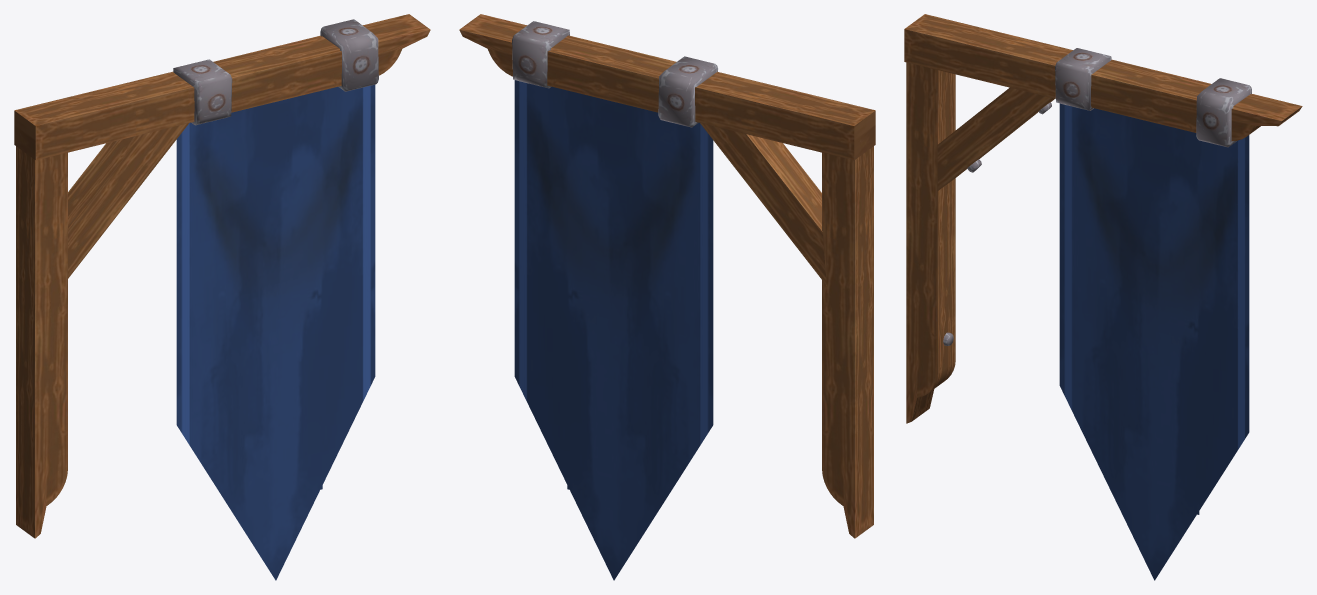
The model's file is Banner_2.gltf.
3 renders of one model, left to right at view 1: azimuth 30°, elevation 25°; view 2: azimuth 150°, elevation 25°; view 3: azimuth 330°, elevation 25°, orthographic. The views are drawn at different scales.
Visible parts, largest first — view 1: Banner_2; view 2: Banner_2; view 3: Banner_2.
Boxes of the visible parts, left/top/right/bottom form: Banner_2: left=14, top=14, right=430, bottom=580; Banner_2: left=459, top=14, right=875, bottom=580; Banner_2: left=904, top=14, right=1302, bottom=580.
Size of the model in its own units: 1.61 by 2.08 by 0.1906.
Materials: 3 (3 with a texture image).
